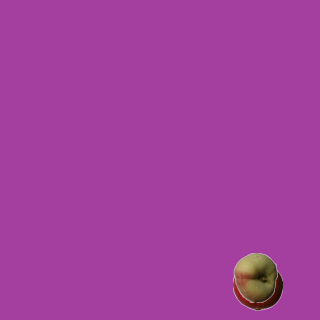Apple Braeburn: (232, 260, 282, 310)
Peach Flat: (230, 252, 280, 302)
